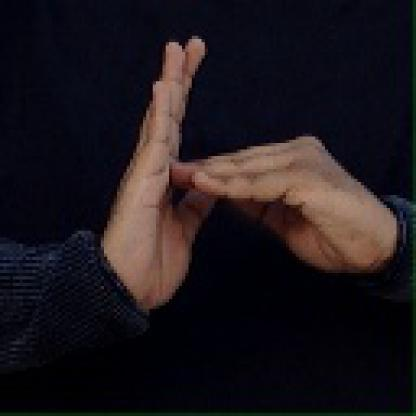Z: (110, 32, 360, 308)
